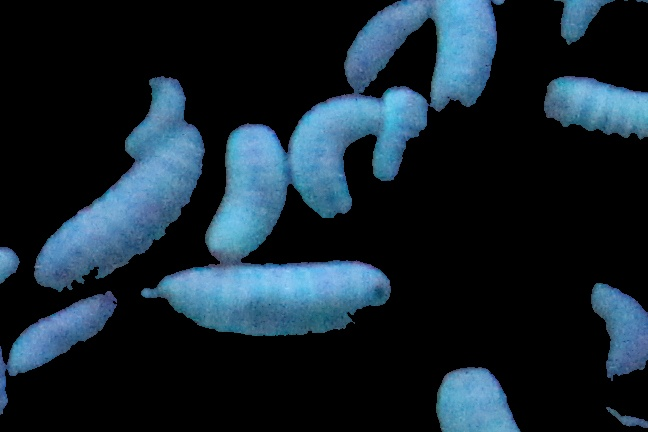larvae: (30, 129, 200, 288), (143, 258, 389, 337), (287, 95, 382, 217), (204, 121, 285, 258), (8, 292, 118, 375), (544, 71, 648, 146), (345, 1, 430, 88), (431, 1, 497, 106), (433, 362, 516, 432), (124, 73, 188, 158), (374, 86, 428, 178)
